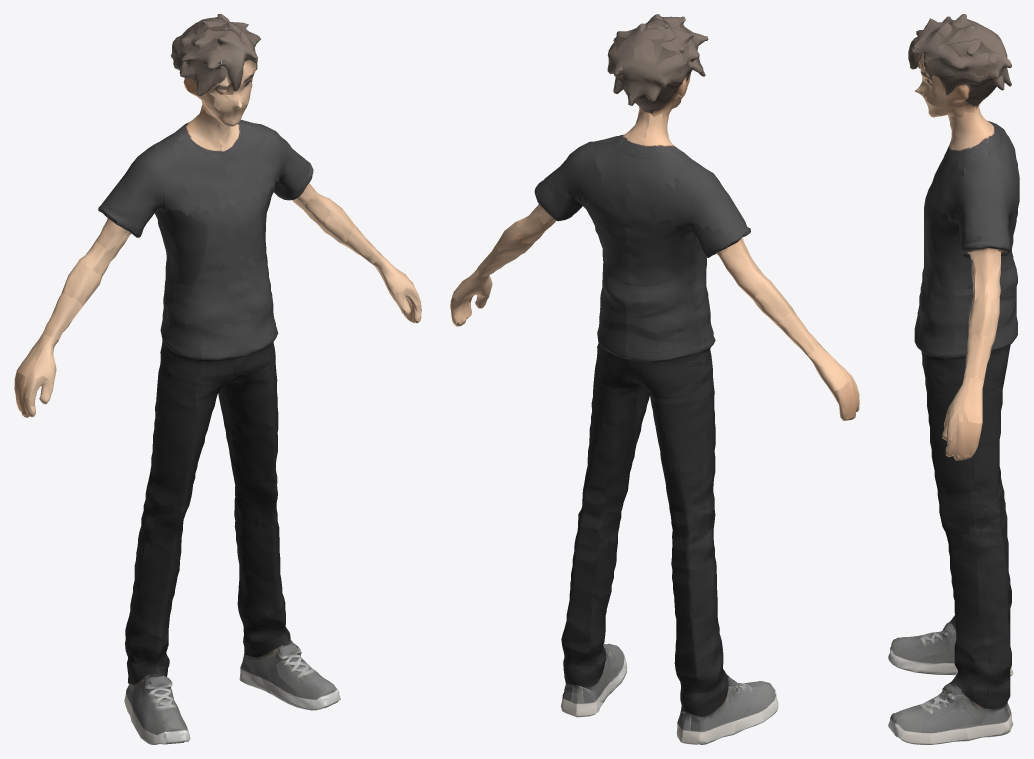
File: vitalik.glb
3 views of the same model, side by side, from view 1: azimuth 30°, elevation 25°; view 2: azimuth 150°, elevation 25°; view 3: azimuth 270°, elevation 25° (orthographic).
Size of the model in its own units: 1.15 by 1.91 by 0.3327.
Materials: 1 (1 with a texture image).
